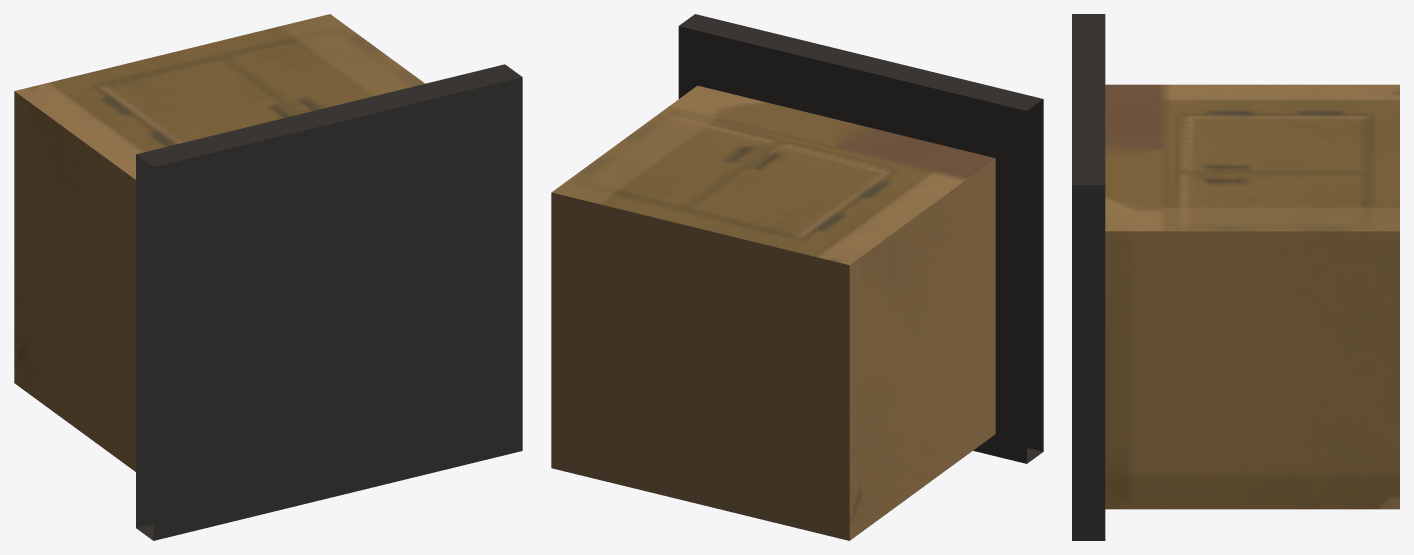
Rendered from section-11.obj.
The picture shows the model from 3 angles, left to right: view 1: azimuth 30°, elevation 25°; view 2: azimuth 150°, elevation 25°; view 3: azimuth 270°, elevation 25°; orthographic projection. The views are drawn at different scales.
Size of the model in its own units: 1.01 by 0.9759 by 0.8153.
Materials: 1 (1 with a texture image).
